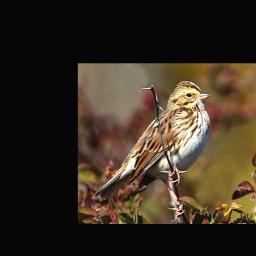Sparrow: (92, 79, 211, 201)
